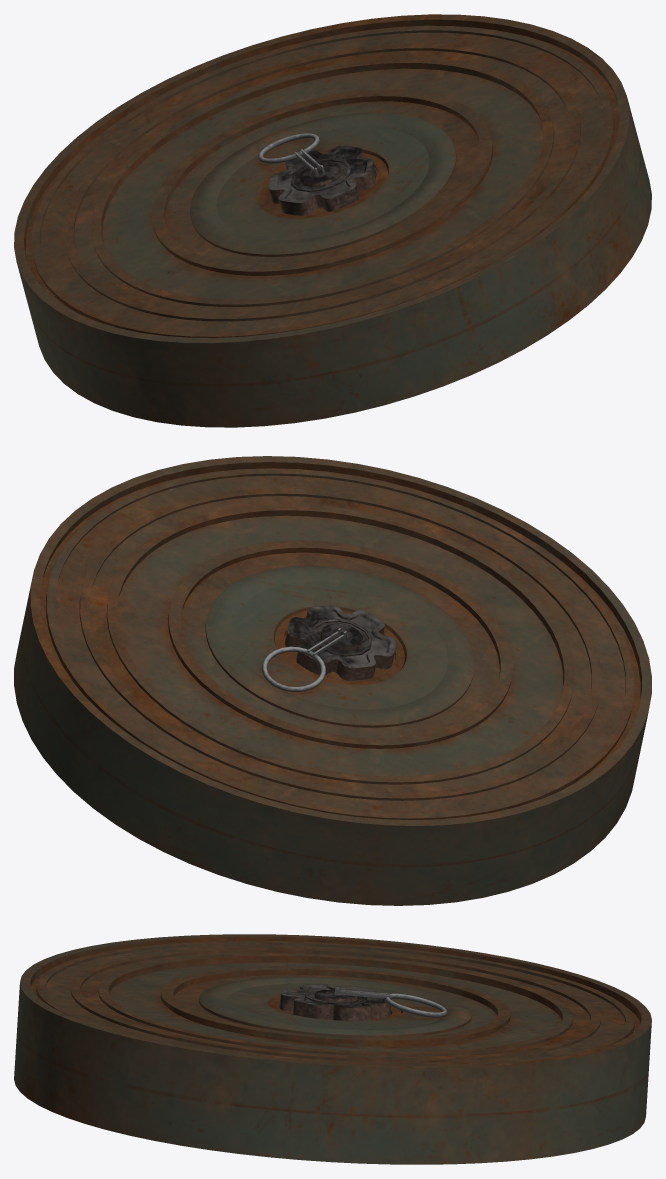
Rendered from soviet_at_land_mine.glb.
The picture shows the model from 3 angles, top to bottom: view 1: azimuth 30°, elevation 25°; view 2: azimuth 150°, elevation 25°; view 3: azimuth 270°, elevation 25°; orthographic projection.
Parts seen in each view (by area): view 1: LandMine_low; view 2: LandMine_low; view 3: LandMine_low.
Part boxes in pixels (x1=…): LandMine_low: x1=14, y1=14, x2=651, y2=427; LandMine_low: x1=14, y1=456, x2=651, y2=905; LandMine_low: x1=14, y1=934, x2=651, y2=1164.
Size of the model in its own units: 404 by 155 by 403.
Materials: 3 (3 with a texture image).
